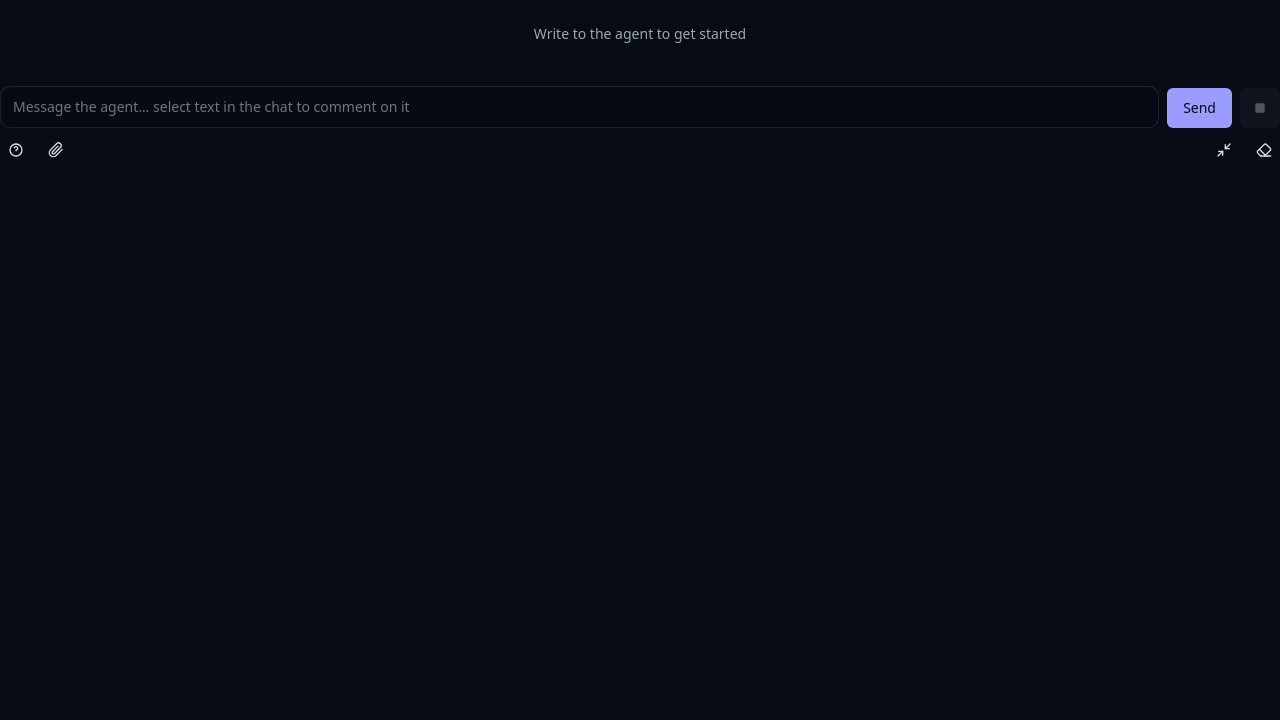
Clear asks first and sends nothing until confirmed; Enter confirms
Click the button named "Clear context".
click(1264, 150)  # box left=1248, top=134, right=1279, bottom=166
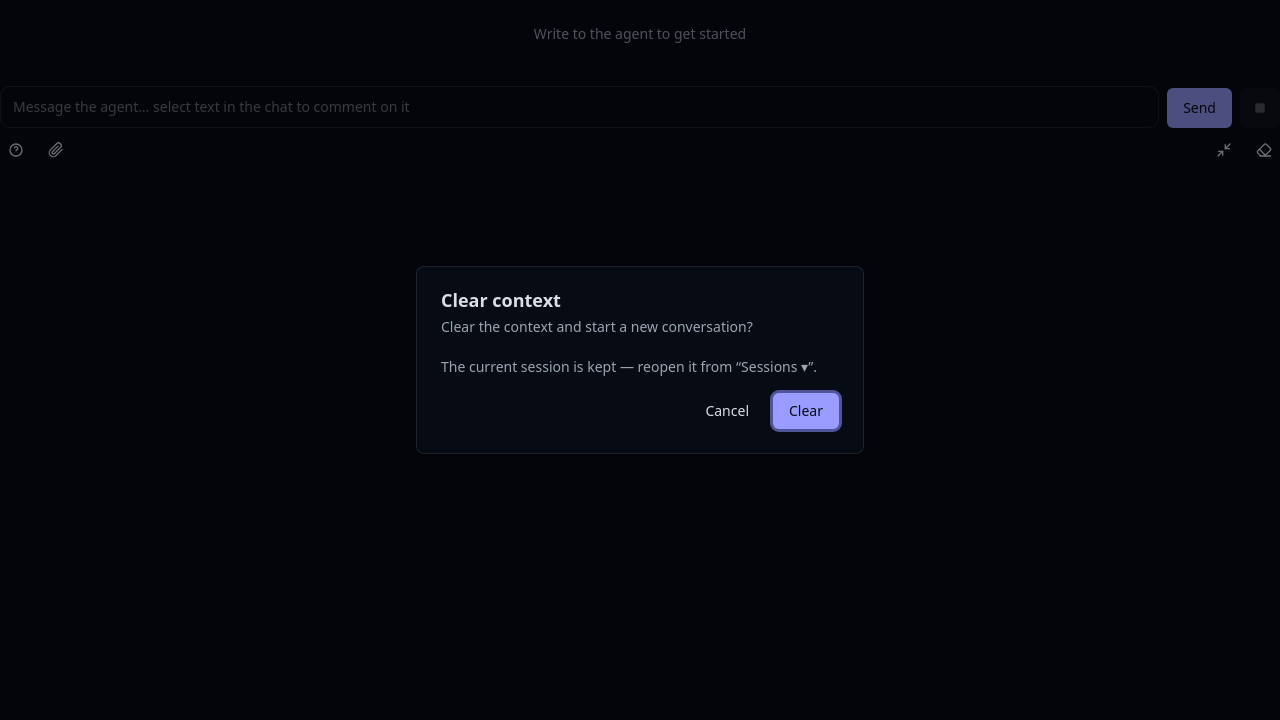
Now the dialog shows "Clear the context and start a new conversation?", box left=441, top=317, right=817, bottom=376
Press Enter
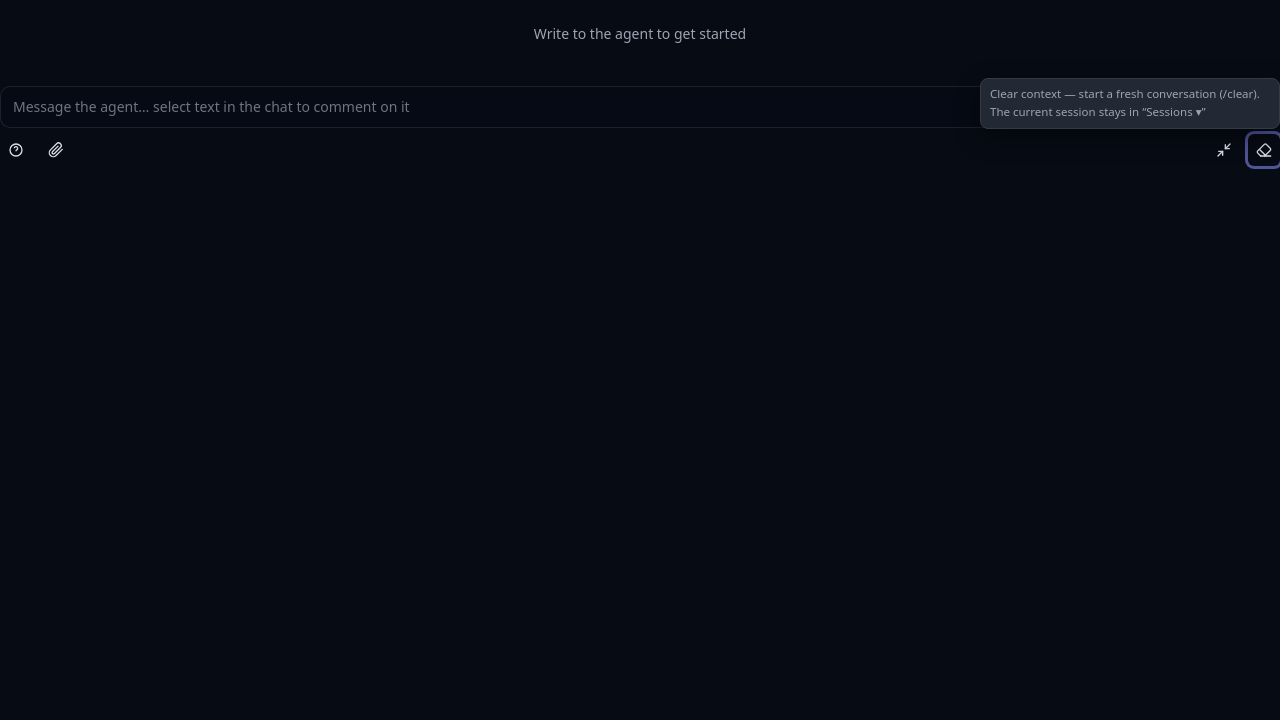
Now the dialog is gone
